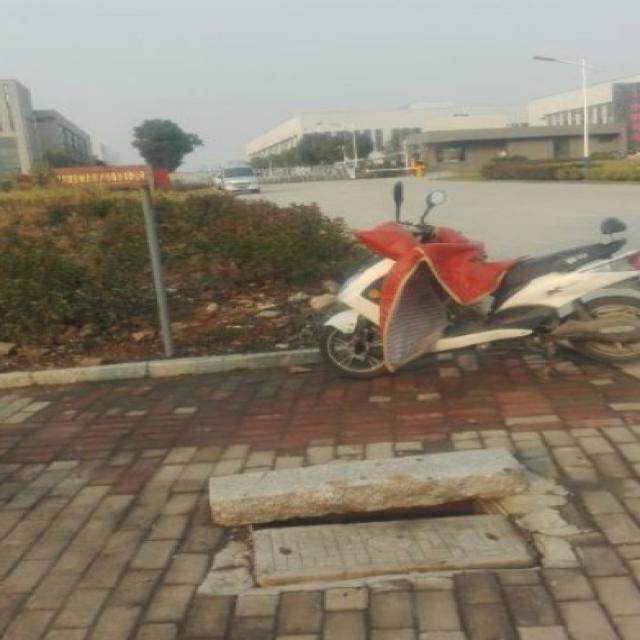Broken: (193, 455, 577, 594)
